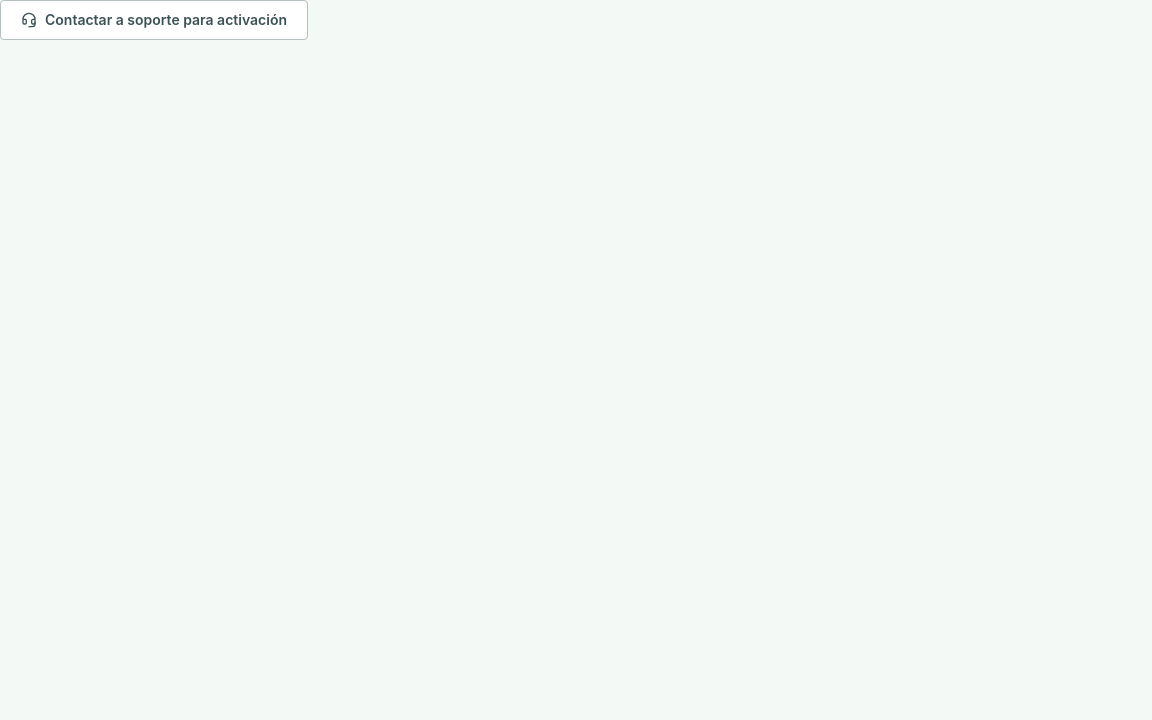
Test case: SolicitudActivacion › abre el formulario prellenado con los datos de la cuenta y lo envía
The width and height of the screenshot is (1152, 720).
Later steps or results of the test are not shown.
Click the button "Contactar a soporte para activación": (154, 20) left=0, top=0, right=308, bottom=40
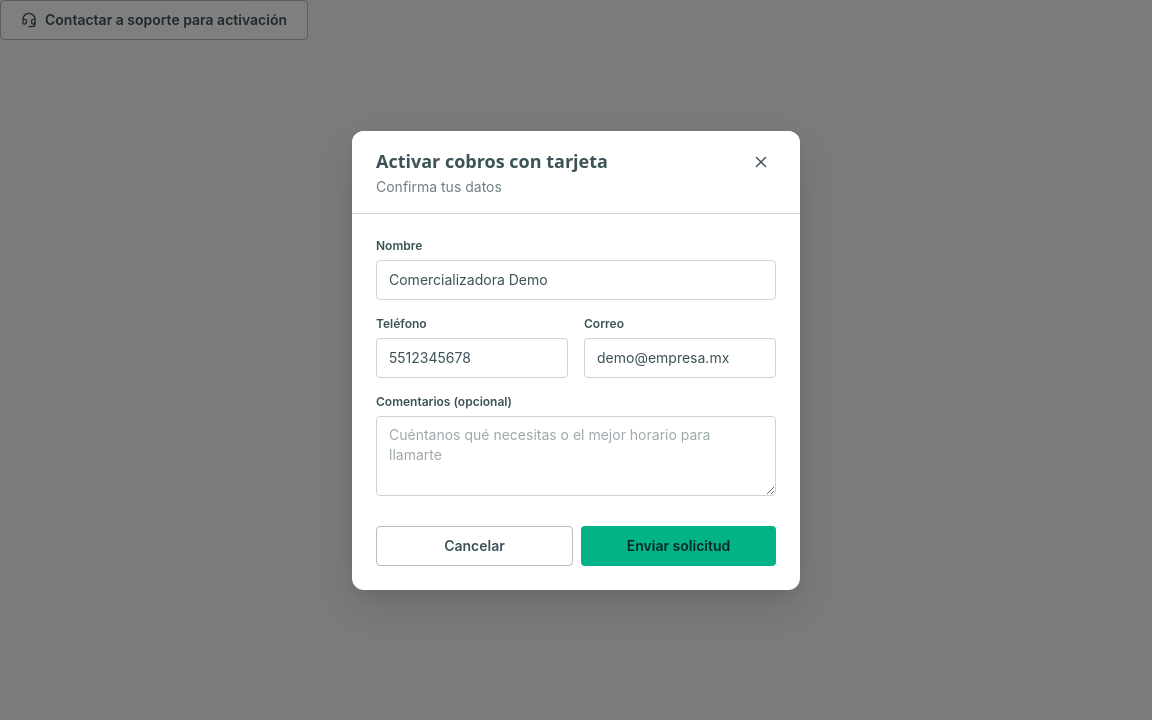
Expected: the field labelled "Nombre" holds "Comercializadora Demo", left=376, top=260, right=776, bottom=300
Expected: the field labelled "Teléfono" holds "5512345678", left=376, top=338, right=568, bottom=378
Expected: the field labelled "Correo" holds "demo@empresa.mx", left=584, top=338, right=776, bottom=378
